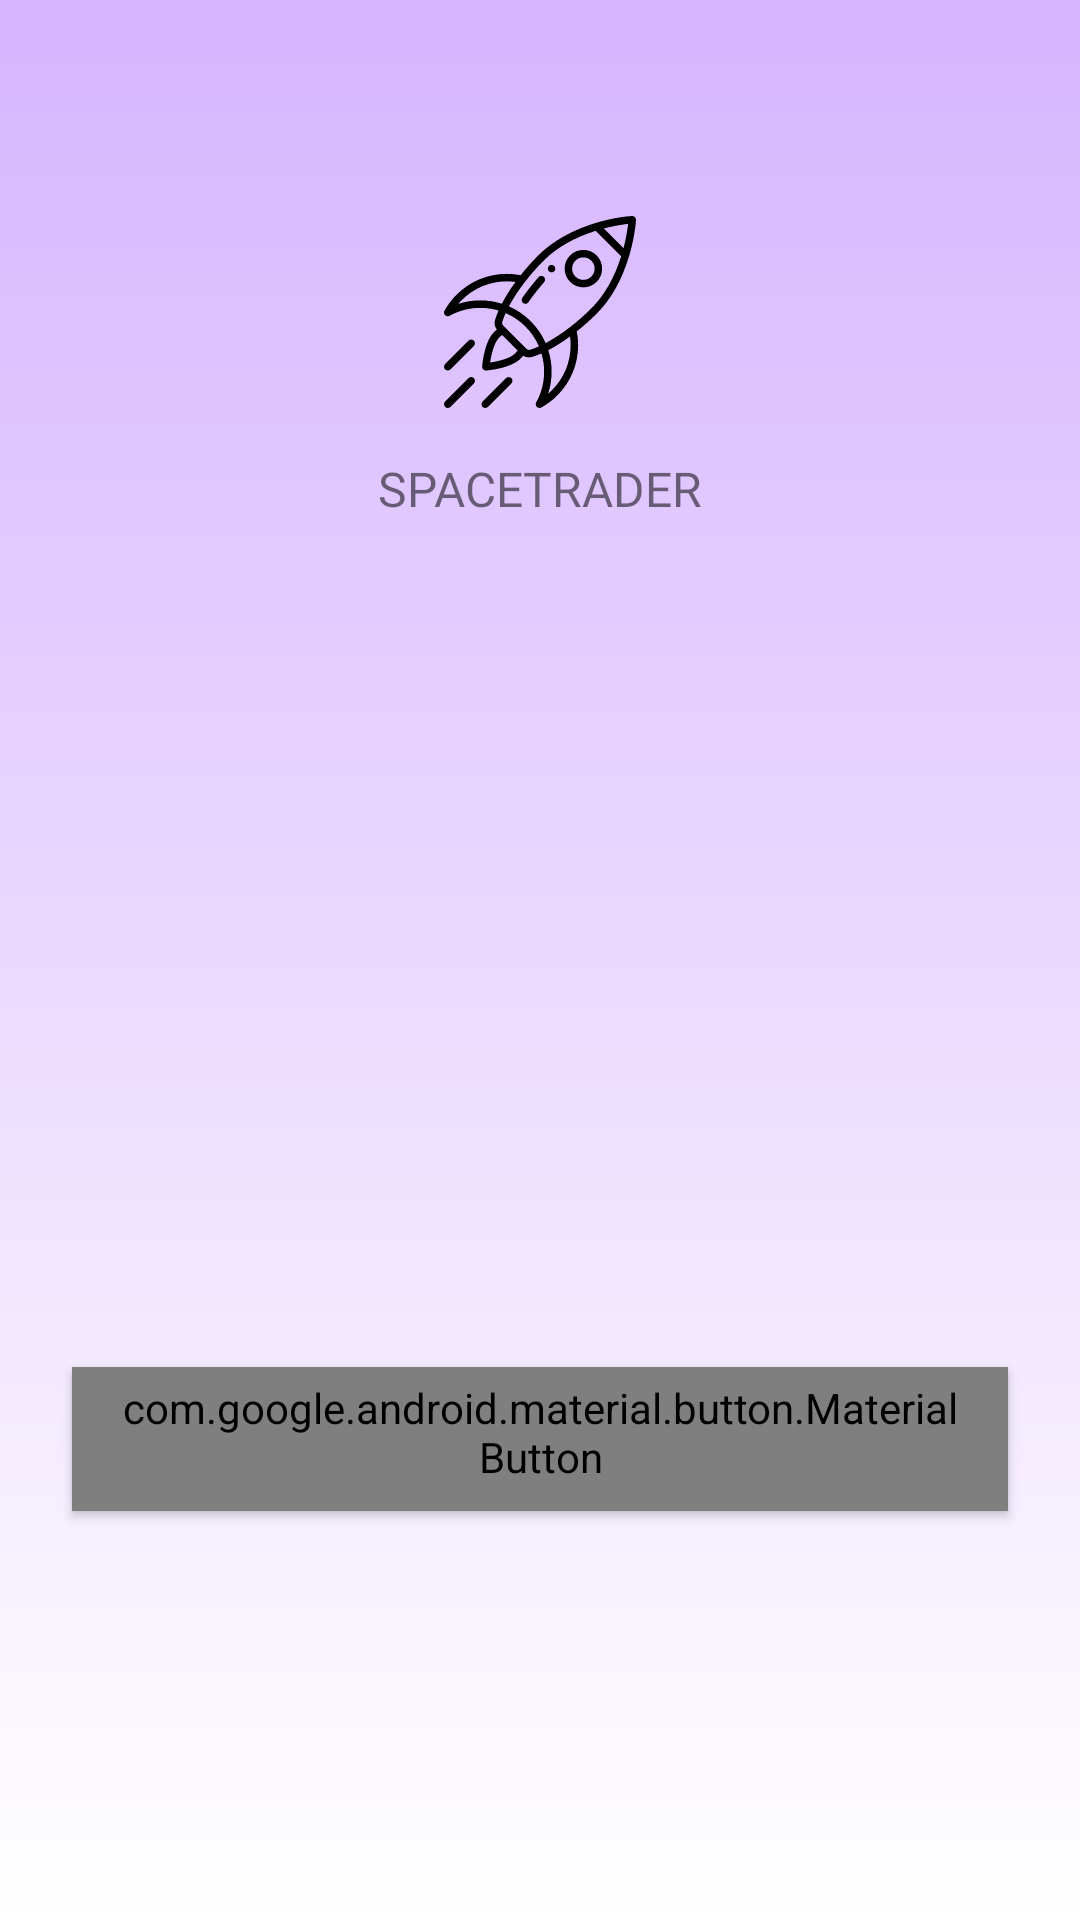

Icon click points for this 1080x1920 phone screenshot, format [x,y]:
spaceship: [540,312]
